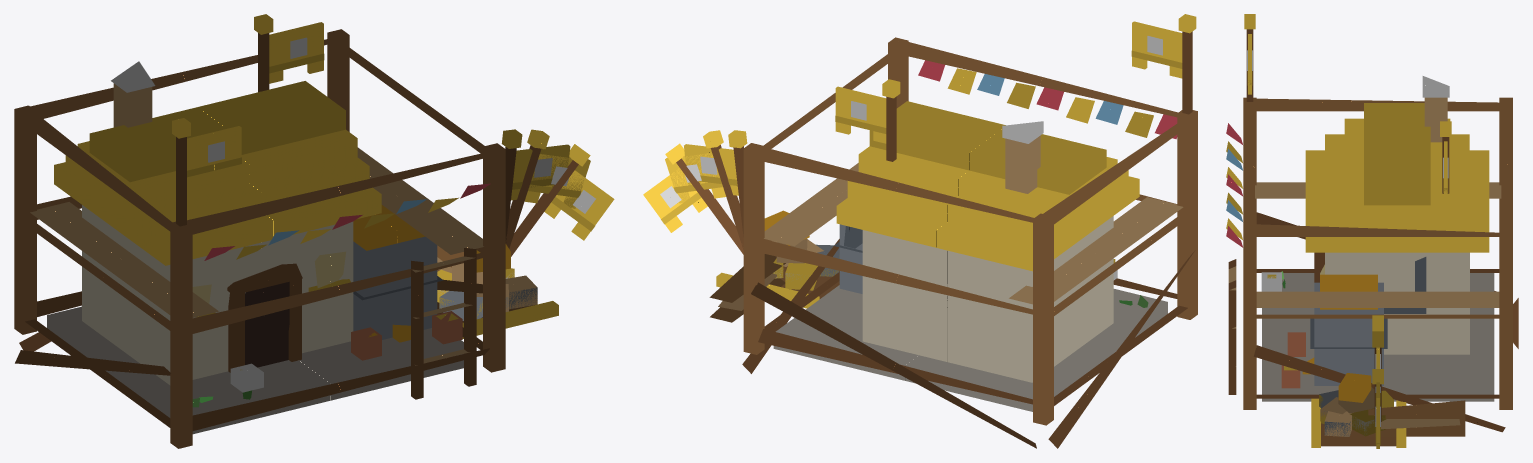
Rendered from bee-research_lod1.glb.
The picture shows the model from 3 angles, left to right: view 1: azimuth 30°, elevation 25°; view 2: azimuth 150°, elevation 25°; view 3: azimuth 270°, elevation 25°; orthographic projection. The views are drawn at different scales.
Visible parts, largest first — view 1: scaffold-mesh, built-mesh, dismantle-75-mesh, dismantle-50-mesh, dismantle-25-mesh, banner, scaffold-banner, dismantle-25-banner, dismantle-75-banner, dismantle-50-banner, dismantle-25-flag-pole, scaffold-flag-pole (+3 smaller); view 2: scaffold-mesh, dismantle-75-mesh, built-mesh, dismantle-50-mesh, dismantle-25-mesh, banner, scaffold-banner, dismantle-25-banner, dismantle-75-banner, dismantle-50-banner, dismantle-25-flag-pole, scaffold-flag-pole (+3 smaller); view 3: scaffold-mesh, built-mesh, dismantle-75-mesh, dismantle-25-mesh, dismantle-50-mesh, scaffold-flag-pole, flag-pole, banner, scaffold-banner, dismantle-25-flag-pole.
Part boxes in pixels (box(x1,y1,x2,y2)): scaffold-mesh: box(14, 29, 505, 448); built-mesh: box(47, 61, 463, 434); dismantle-75-mesh: box(47, 155, 534, 416); dismantle-50-mesh: box(47, 233, 537, 416); dismantle-25-mesh: box(47, 244, 558, 407); banner: box(269, 22, 324, 83); scaffold-banner: box(187, 126, 241, 187); dismantle-25-banner: box(544, 170, 614, 240); dismantle-75-banner: box(511, 144, 570, 200); dismantle-50-banner: box(524, 154, 590, 208); dismantle-25-flag-pole: box(509, 144, 590, 256); scaffold-flag-pole: box(172, 118, 190, 226); scaffold-mesh: box(709, 37, 1197, 448); dismantle-75-mesh: box(773, 170, 1167, 411); built-mesh: box(836, 101, 1167, 396); dismantle-50-mesh: box(772, 228, 1148, 410); dismantle-25-mesh: box(716, 210, 1145, 410); banner: box(835, 86, 886, 143); scaffold-banner: box(1131, 21, 1182, 78); dismantle-25-banner: box(643, 168, 707, 232); dismantle-75-banner: box(684, 144, 738, 195); dismantle-50-banner: box(665, 153, 726, 203); dismantle-25-flag-pole: box(665, 143, 743, 254); scaffold-flag-pole: box(1178, 14, 1196, 114); scaffold-mesh: box(1226, 97, 1518, 436); built-mesh: box(1283, 76, 1489, 356); dismantle-75-mesh: box(1262, 257, 1494, 446); dismantle-25-mesh: box(1282, 274, 1406, 447); dismantle-50-mesh: box(1281, 265, 1416, 436); scaffold-flag-pole: box(1244, 14, 1255, 101); flag-pole: box(1440, 121, 1451, 193); banner: box(1443, 141, 1448, 201); scaffold-banner: box(1247, 34, 1252, 94); dismantle-25-flag-pole: box(1372, 369, 1383, 421).
Size of the model in its own units: 2.57 by 1.65 by 1.51.
